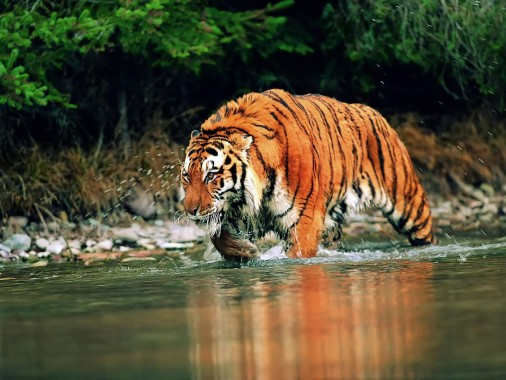Tigrew: (159, 76, 464, 276)
